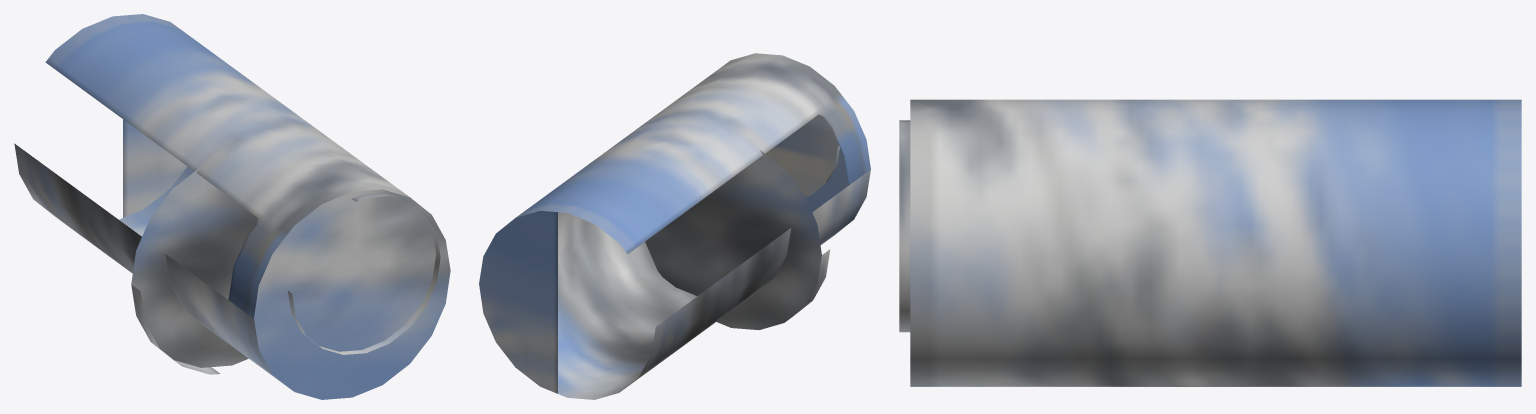
File: section-2.obj
3 views of the same model, side by side, from view 1: azimuth 30°, elevation 25°; view 2: azimuth 150°, elevation 25°; view 3: azimuth 270°, elevation 25° (orthographic). The views are drawn at different scales.
Bounding box in the file's own units: 0.6808 × 0.8355 × 1.25.
